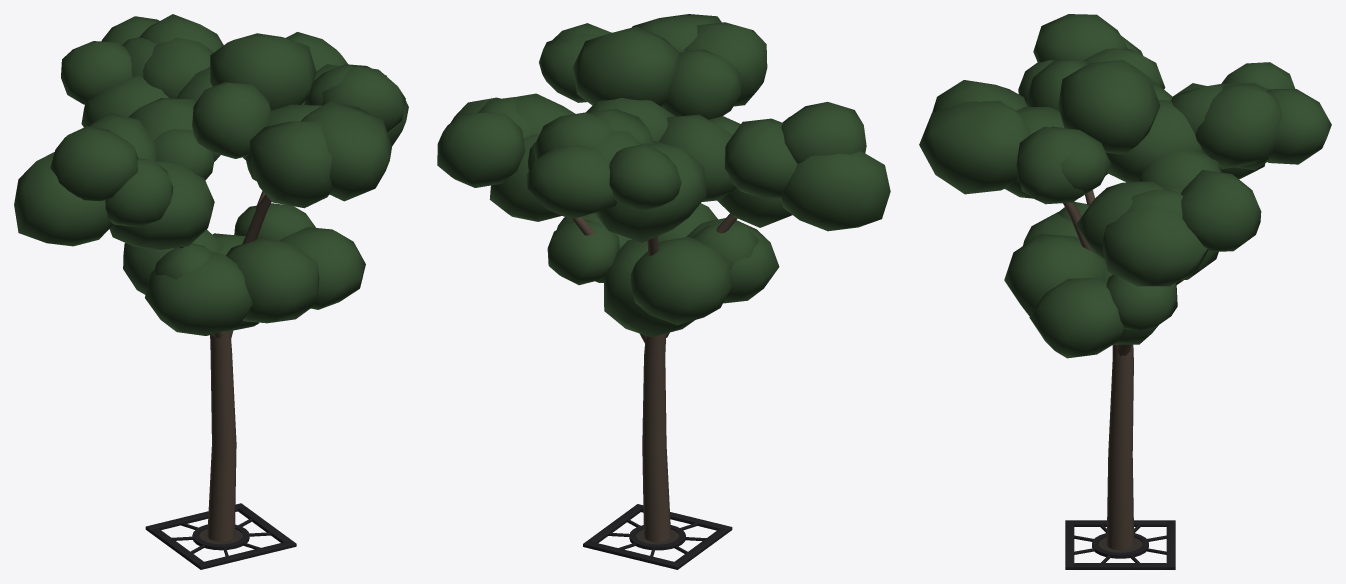
File: street_tree.glb
3 renders of one model, left to right at view 1: azimuth 30°, elevation 25°; view 2: azimuth 150°, elevation 25°; view 3: azimuth 270°, elevation 25°, orthographic.
Parts seen in each view (by area): view 1: Leaves_LOD0.031, Leaves_LOD0.023, Leaves_LOD0.029, Leaves_LOD0.026, Leaves_LOD0.015, Leaves_LOD0.022, Trunk_LOD0, Leaves_LOD0.020, Leaves_LOD0.025, Leaves_LOD0.014, Leaves_LOD0.032, Leaves_LOD0.009 (+24 smaller); view 2: Leaves_LOD0.015, Leaves_LOD0.030, Leaves_LOD0.026, Leaves_LOD0.004, Trunk_LOD0, Leaves_LOD0.010, Leaves_LOD0.016, Leaves_LOD0.007, Leaves_LOD0.025, Leaves_LOD0.020, Leaves_LOD0.009, Leaves_LOD0.033 (+18 smaller); view 3: Leaves_LOD0.022, Leaves_LOD0.026, Leaves_LOD0.006, Leaves_LOD0.032, Leaves_LOD0.012, Leaves_LOD0.004, Trunk_LOD0, Leaves_LOD0.029, Leaves_LOD0.027, Leaves_LOD0.010, Leaves_LOD0.020, Leaves_LOD0.008 (+15 smaller).
Part boxes in pixels (left/top/right/bottom): Leaves_LOD0.031: left=145, top=251, right=252, bottom=335; Leaves_LOD0.023: left=250, top=121, right=332, bottom=208; Leaves_LOD0.029: left=226, top=237, right=319, bottom=323; Leaves_LOD0.026: left=210, top=33, right=316, bottom=110; Leaves_LOD0.015: left=14, top=152, right=113, bottom=246; Leaves_LOD0.022: left=301, top=100, right=392, bottom=201; Trunk_LOD0: left=207, top=331, right=236, bottom=541; Leaves_LOD0.020: left=50, top=126, right=138, bottom=201; Leaves_LOD0.025: left=192, top=81, right=271, bottom=158; Leaves_LOD0.014: left=109, top=161, right=214, bottom=249; Leaves_LOD0.032: left=280, top=227, right=365, bottom=309; Leaves_LOD0.009: left=61, top=41, right=132, bottom=104; Leaves_LOD0.015: left=781, top=151, right=890, bottom=231; Leaves_LOD0.030: left=630, top=236, right=731, bottom=325; Leaves_LOD0.026: left=573, top=26, right=679, bottom=106; Leaves_LOD0.004: left=437, top=112, right=525, bottom=187; Trunk_LOD0: left=642, top=334, right=671, bottom=541; Leaves_LOD0.010: left=526, top=145, right=617, bottom=219; Leaves_LOD0.016: left=724, top=118, right=797, bottom=198; Leaves_LOD0.007: left=594, top=141, right=706, bottom=242; Leaves_LOD0.025: left=662, top=49, right=741, bottom=119; Leaves_LOD0.020: left=781, top=101, right=866, bottom=163; Leaves_LOD0.009: left=609, top=143, right=681, bottom=210; Leaves_LOD0.033: left=547, top=220, right=619, bottom=285; Leaves_LOD0.022: left=919, top=101, right=1030, bottom=194; Leaves_LOD0.026: left=1058, top=60, right=1160, bottom=154; Leaves_LOD0.006: left=1102, top=206, right=1207, bottom=286; Leaves_LOD0.032: left=1029, top=277, right=1125, bottom=358; Leaves_LOD0.012: left=1195, top=83, right=1282, bottom=169; Leaves_LOD0.004: left=1181, top=170, right=1261, bottom=251; Trunk_LOD0: left=1106, top=344, right=1134, bottom=550; Leaves_LOD0.029: left=1004, top=234, right=1104, bottom=315; Leaves_LOD0.027: left=1016, top=126, right=1084, bottom=204; Leaves_LOD0.010: left=1266, top=89, right=1331, bottom=164; Leaves_LOD0.020: left=1033, top=14, right=1127, bottom=62; Leaves_LOD0.008: left=1106, top=99, right=1203, bottom=182.
Size of the model in its own units: 5.14 by 5.96 by 4.48.
